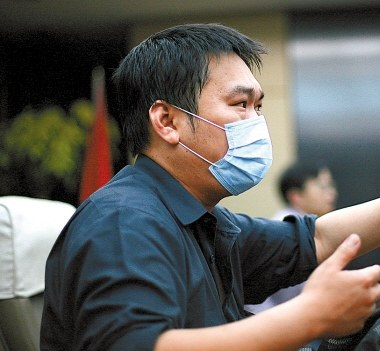face: (301, 172, 334, 213)
face_mask: (183, 52, 268, 190)
